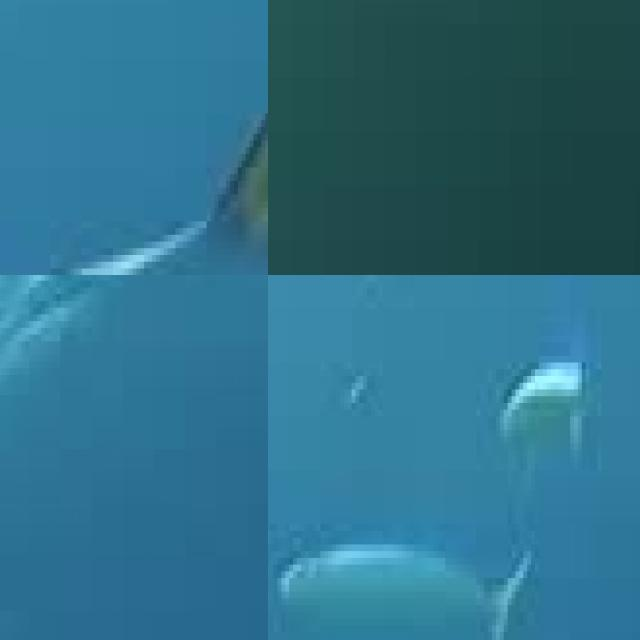fish: (0, 5, 268, 275)
